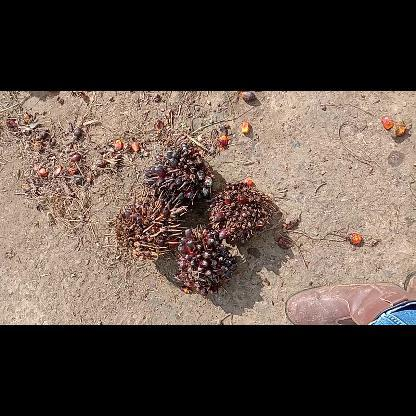TBS abnormal: (116, 188, 180, 260), (144, 143, 212, 205), (177, 225, 237, 295), (208, 182, 274, 242)
